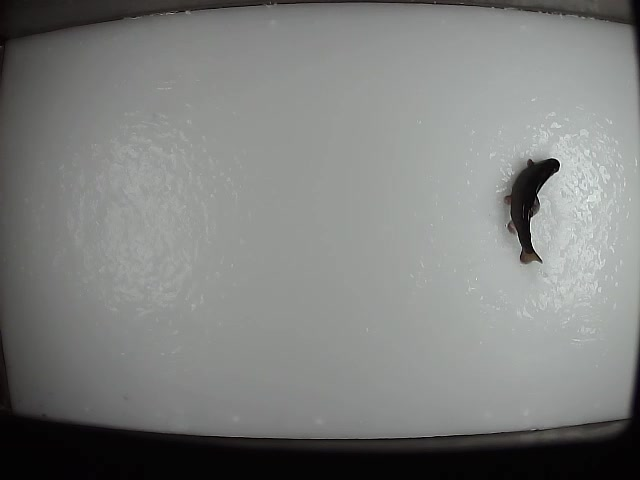fish: (499, 155, 570, 267)
